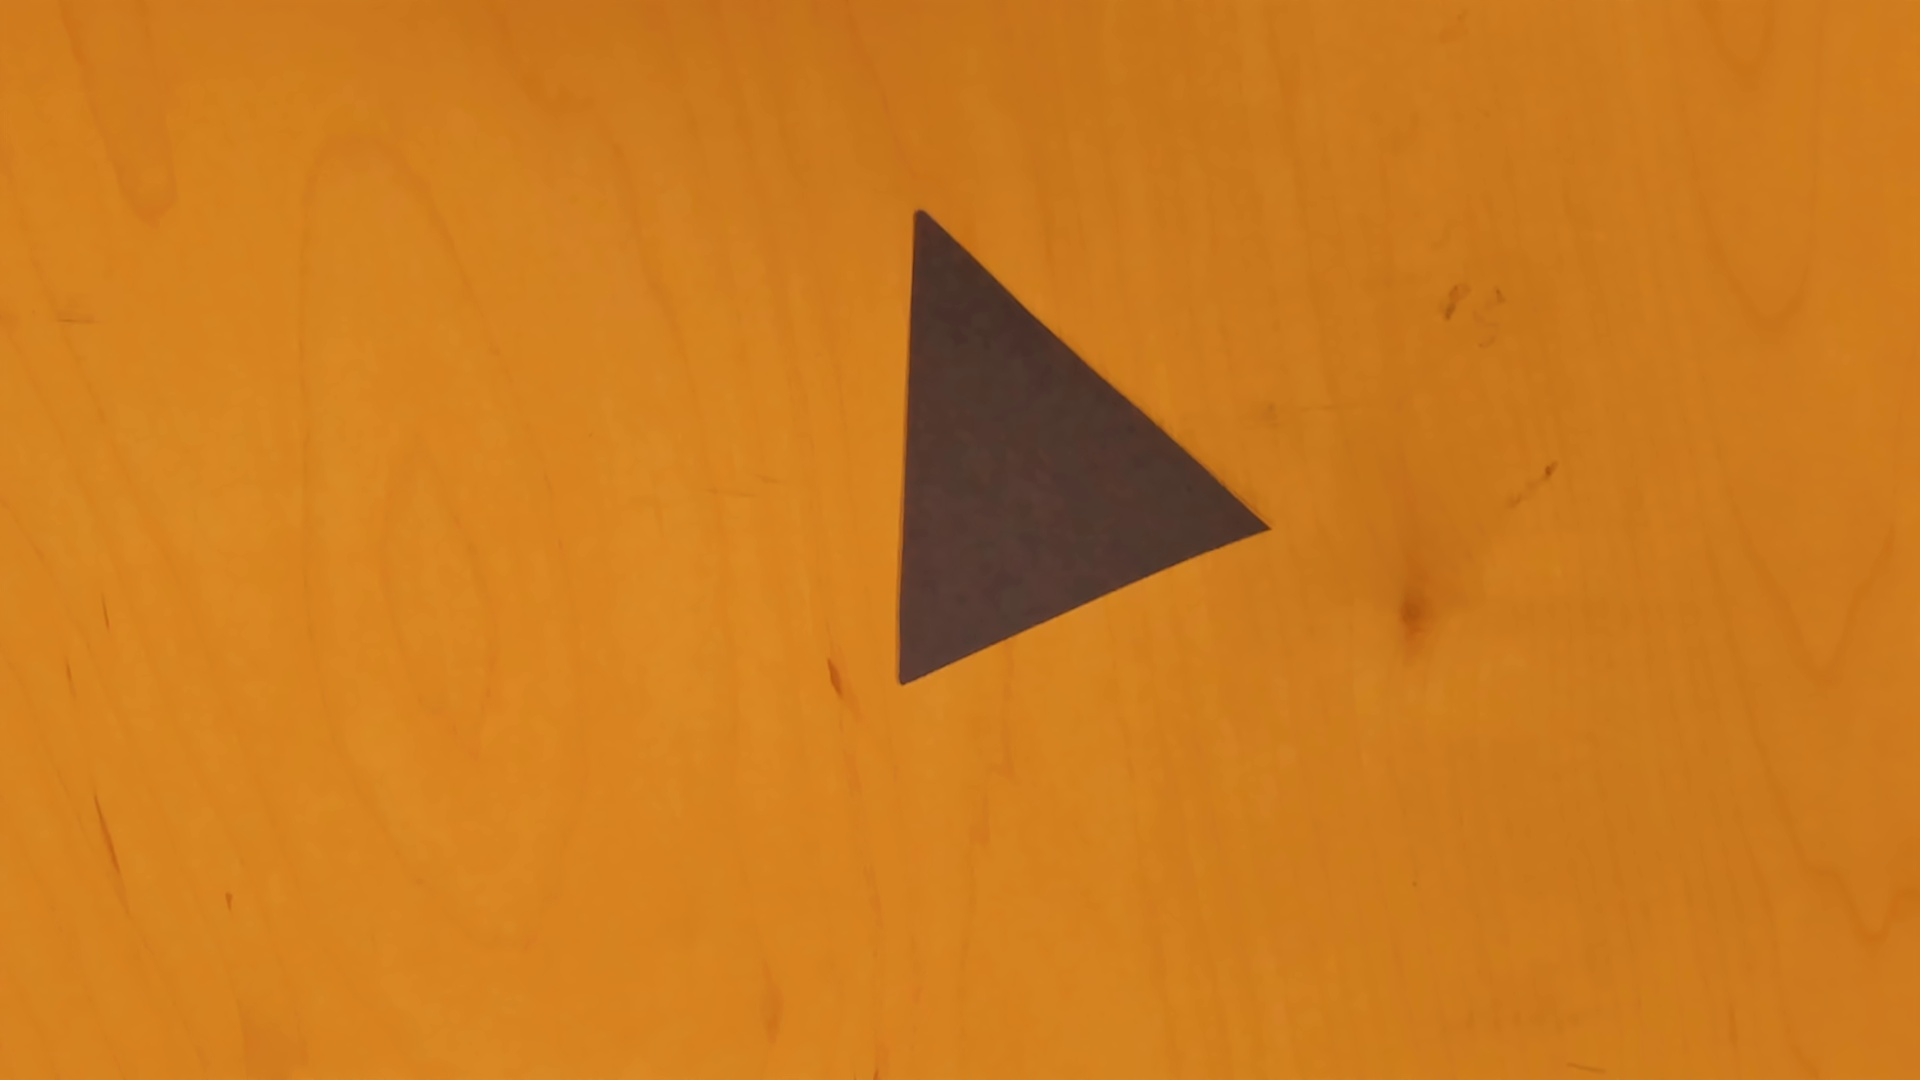BT: (891, 207, 1276, 690)
